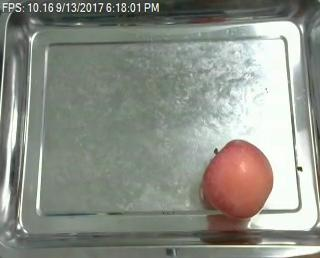apple: (200, 140, 276, 217)
